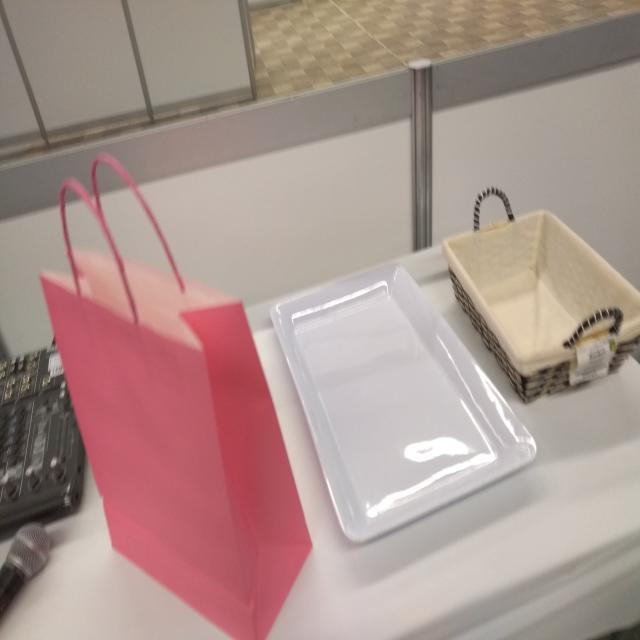basket: (441, 186, 640, 402)
help_me_carry_opl: (40, 152, 317, 638)
tray: (269, 258, 538, 540)
